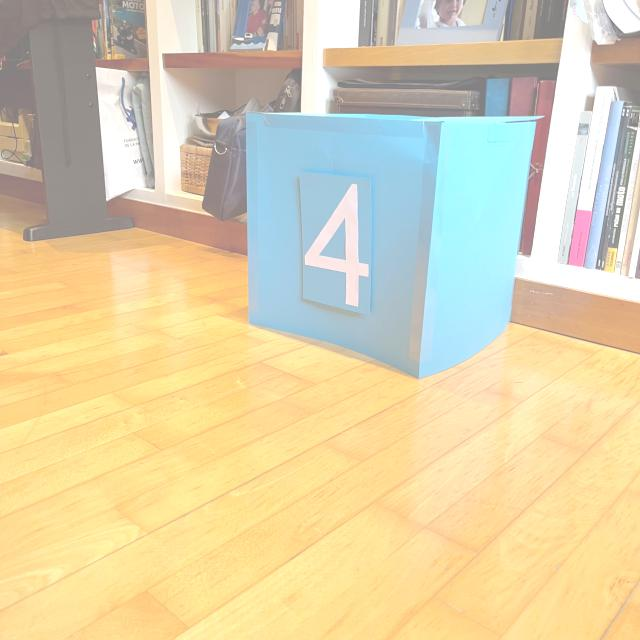box: (241, 107, 542, 380)
